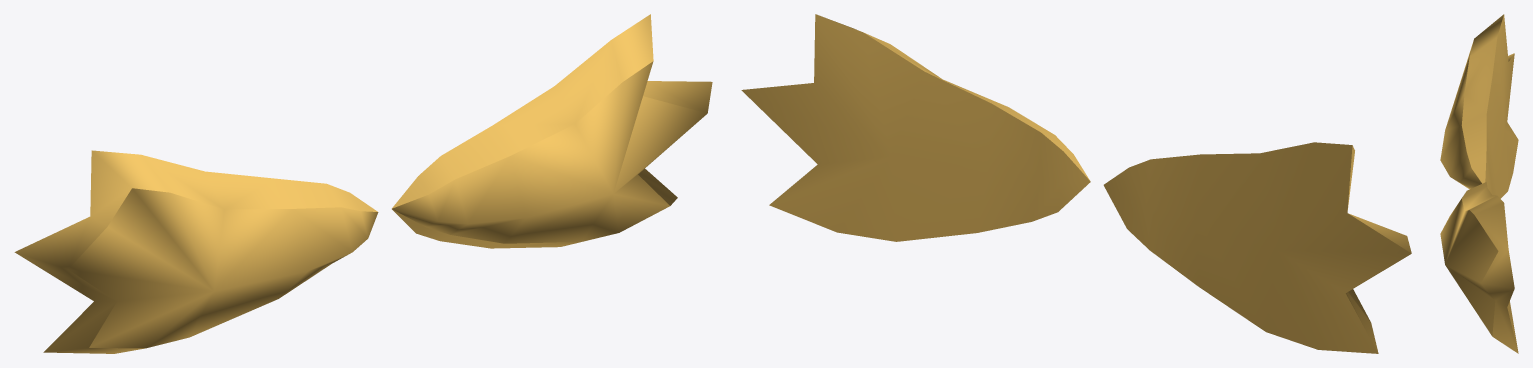
Rendered from Beard_Yellow_8.fbx.
The picture shows the model from 3 angles, left to right: view 1: azimuth 30°, elevation 25°; view 2: azimuth 150°, elevation 25°; view 3: azimuth 270°, elevation 25°; orthographic projection. The views are drawn at different scales.
Parts seen in each view (by area): view 1: Beard_Yellow_8; view 2: Beard_Yellow_8; view 3: Beard_Yellow_8.
Boxes of the visible parts, bbox=[...] form: Beard_Yellow_8: bbox=[14, 14, 712, 353]; Beard_Yellow_8: bbox=[741, 14, 1411, 353]; Beard_Yellow_8: bbox=[1440, 14, 1518, 353].
Bounding box in the file's own units: 66.53 × 19.62 × 9.34.
